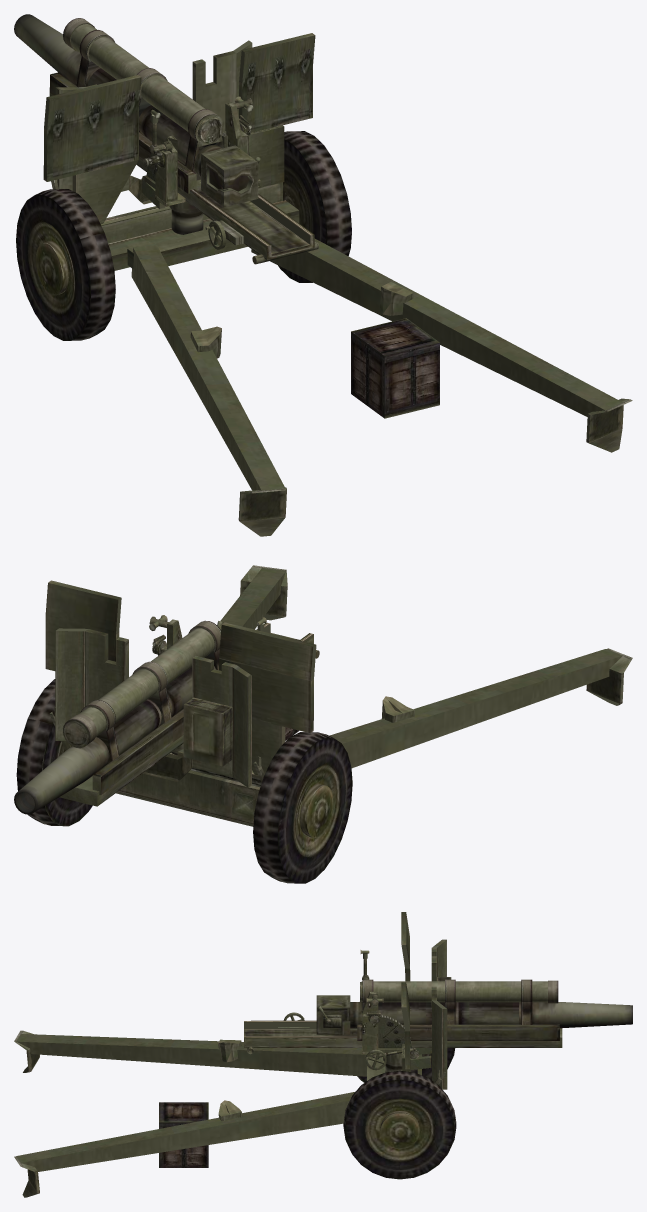
The model's file is Mec_LiuDanPao.FBX.
3 renders of one model, top to bottom at view 1: azimuth 30°, elevation 25°; view 2: azimuth 150°, elevation 25°; view 3: azimuth 270°, elevation 25°, orthographic. The views are drawn at different scales.
Visible parts, largest first — view 1: LOD01_105_, LOD01_1050, LOD01_1051, LOD01_1052; view 2: LOD01_105_, LOD01_1050, LOD01_1052, LOD01_1051; view 3: LOD01_105_, LOD01_1050, LOD01_1051, LOD01_1052.
Part boxes in pixels (bbox=[...]): LOD01_105_: bbox=[16, 33, 632, 536]; LOD01_1050: bbox=[14, 14, 260, 206]; LOD01_1051: bbox=[49, 87, 318, 264]; LOD01_1052: bbox=[55, 40, 252, 234]; LOD01_105_: bbox=[16, 565, 632, 883]; LOD01_1050: bbox=[14, 620, 223, 814]; LOD01_1052: bbox=[55, 628, 251, 787]; LOD01_1051: bbox=[59, 615, 319, 806]; LOD01_105_: bbox=[14, 912, 456, 1197]; LOD01_1050: bbox=[316, 979, 632, 1040]; LOD01_1051: bbox=[244, 950, 562, 1070]; LOD01_1052: bbox=[378, 939, 451, 1089].
Bounding box in the file's own units: 32.54 × 19.44 × 62.16.
1 material, 1 textured.
